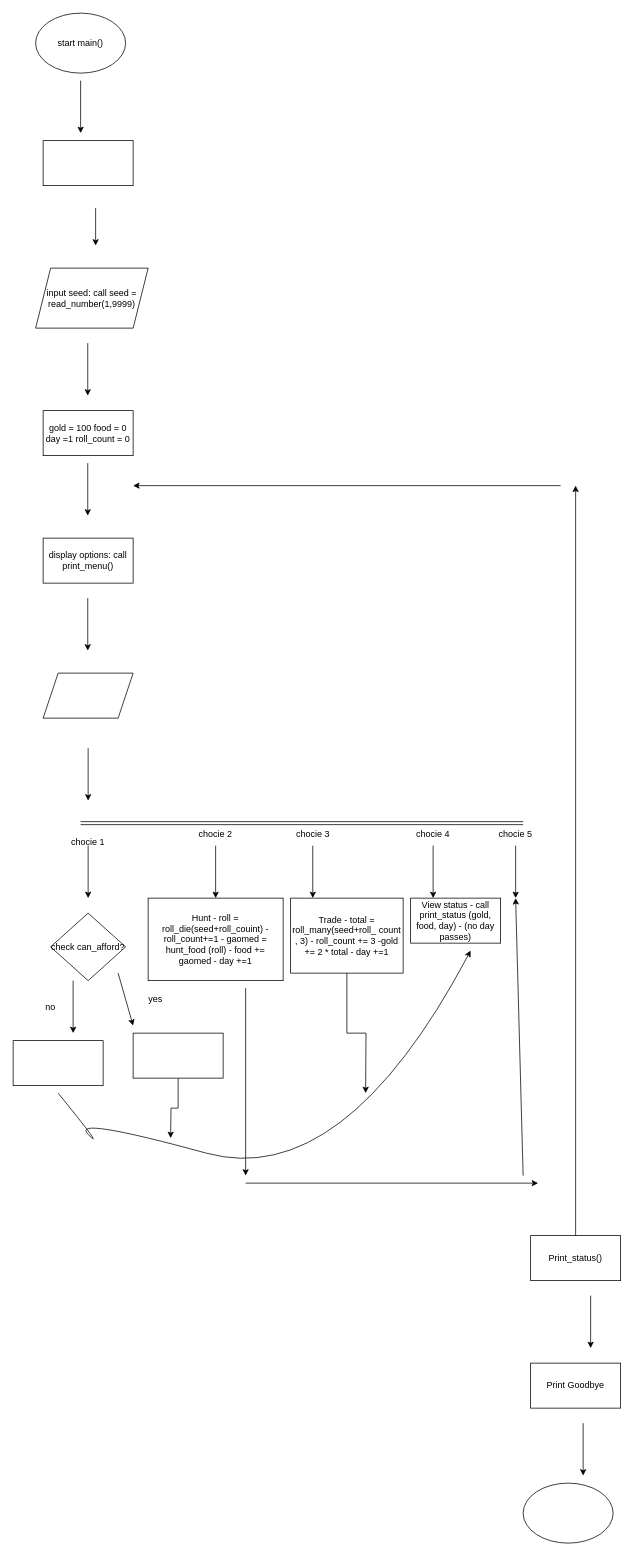
This 634x1556 diagram has some shape labels left out. Each missing label, with the centre of its shape:
"ask qty update gold food day" belongs at point (177, 1055).
"end" belongs at point (567, 1512).
"Get input: choice = read_number (1, 5)" belongs at point (87, 695).
"Print errror msg" belongs at point (57, 1063).
"print welcome msg" belongs at point (87, 163).
